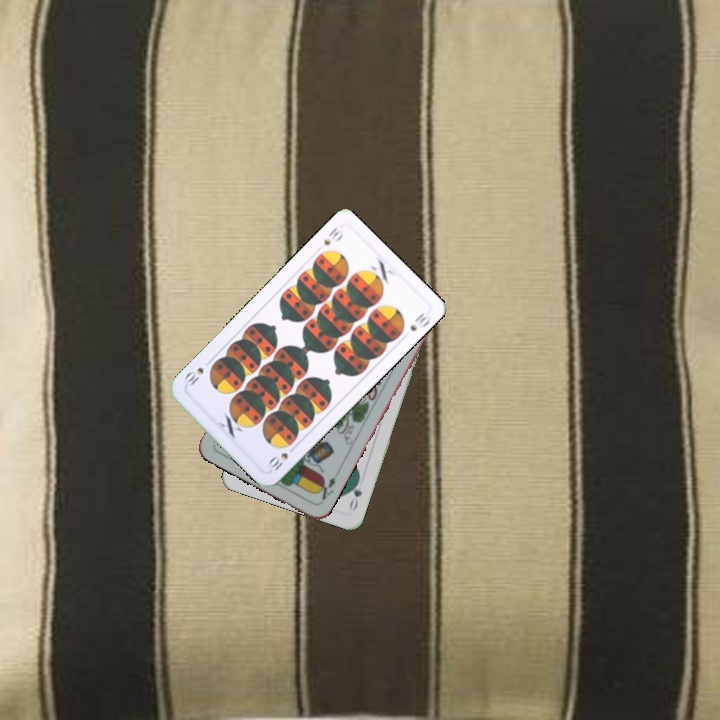EA: (313, 473, 338, 506)
GO: (345, 474, 365, 513)
S10: (264, 442, 299, 474), (320, 223, 346, 248)
